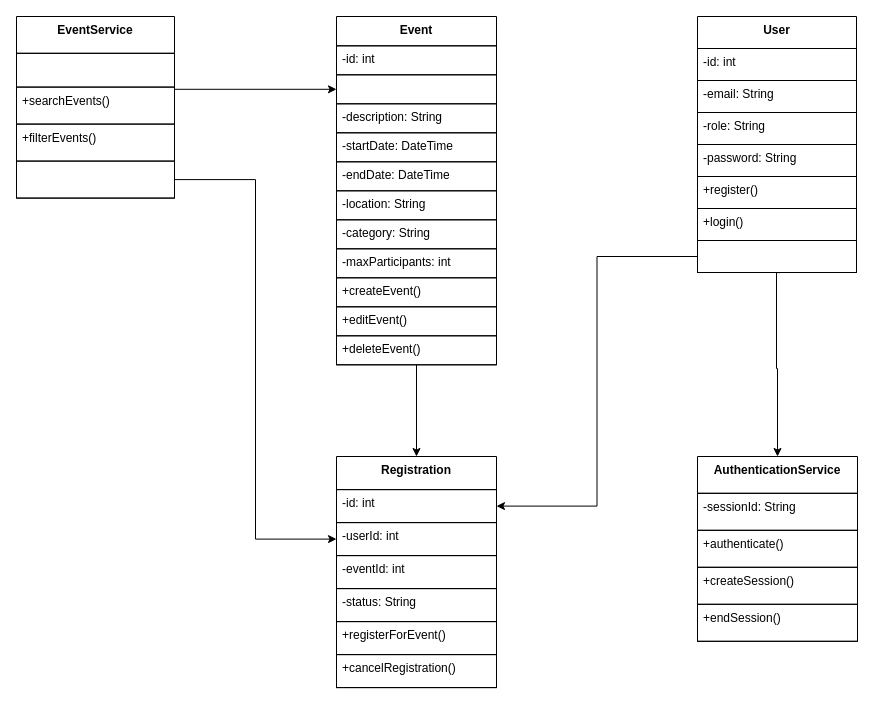
The diagram is 874 pixels wide and 704 high, and some of its shapes have lost their labels. The shapes that lost their labels are listed below. From the top down, each one's centre as x and y in pixels, then its label:
At point 95,69: "-cache: Map".
At point 416,89: "-title: String".
At point 95,179: "+getEventDetails()".
At point 776,256: "+logout()".
